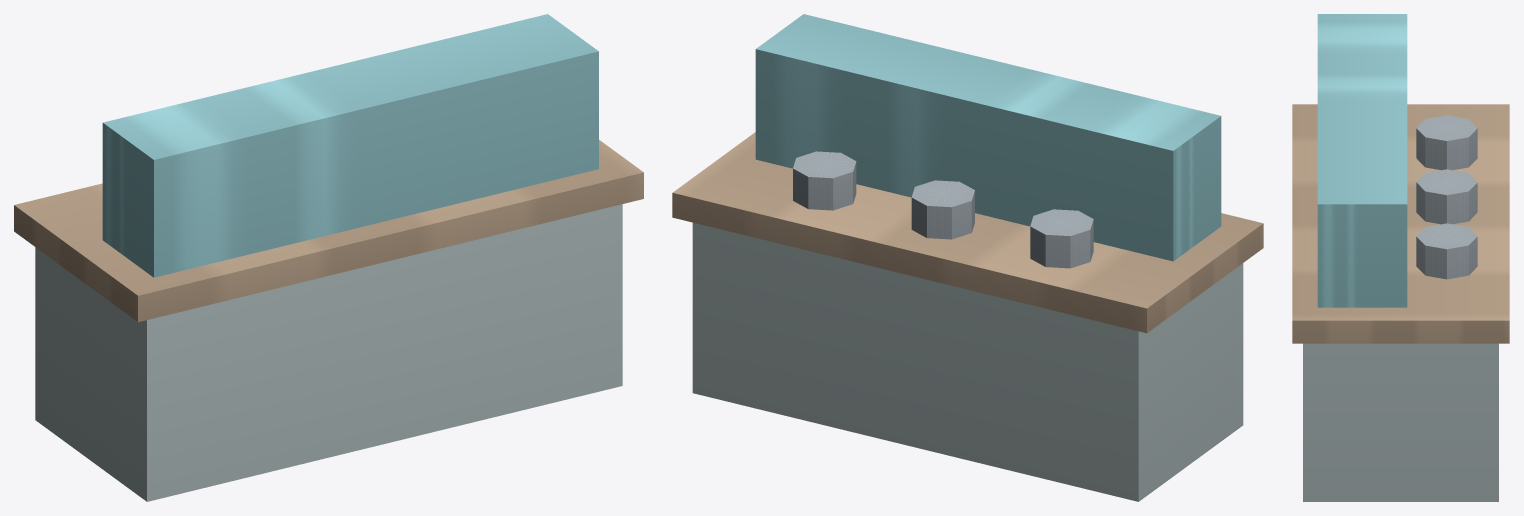
File: cashier_desk.glb
3 views of the same model, side by side, from view 1: azimuth 30°, elevation 25°; view 2: azimuth 150°, elevation 25°; view 3: azimuth 270°, elevation 25° (orthographic). The views are drawn at different scales.
Parts seen in each view (by area): view 1: cashier_desk; view 2: cashier_desk; view 3: cashier_desk.
Part boxes in pixels (left/top/right/bottom): cashier_desk: left=14, top=14, right=643, bottom=501; cashier_desk: left=672, top=14, right=1263, bottom=501; cashier_desk: left=1292, top=14, right=1509, bottom=501.
Size of the model in its own units: 2 by 1.25 by 0.85.
1 material, 1 textured.
